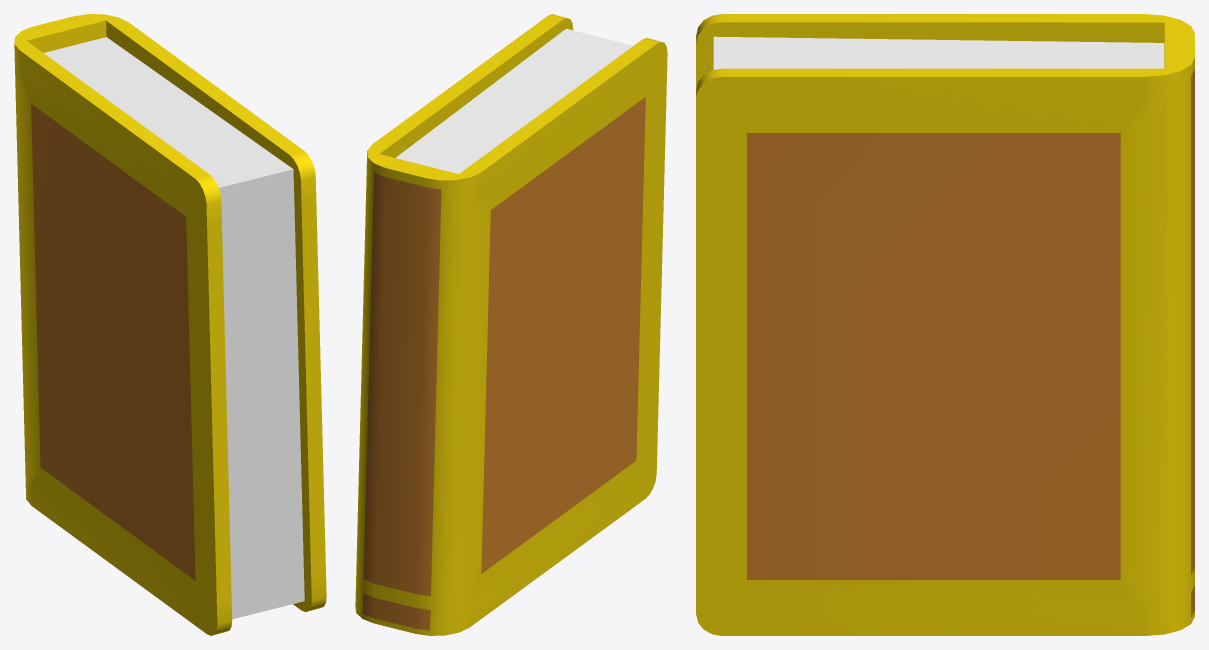
File: book_26.fbx
3 renders of one model, left to right at view 1: azimuth 30°, elevation 25°; view 2: azimuth 150°, elevation 25°; view 3: azimuth 270°, elevation 25°, orthographic. The views are drawn at different scales.
Visible parts, largest first — view 1: book_26; view 2: book_26; view 3: book_26.
Part boxes in pixels (x1,y1,x2,y2): book_26: (14, 14, 326, 635); book_26: (355, 14, 667, 635); book_26: (696, 14, 1194, 635).
Size of the model in its own units: 0.0863 by 0.3132 by 0.2557.
